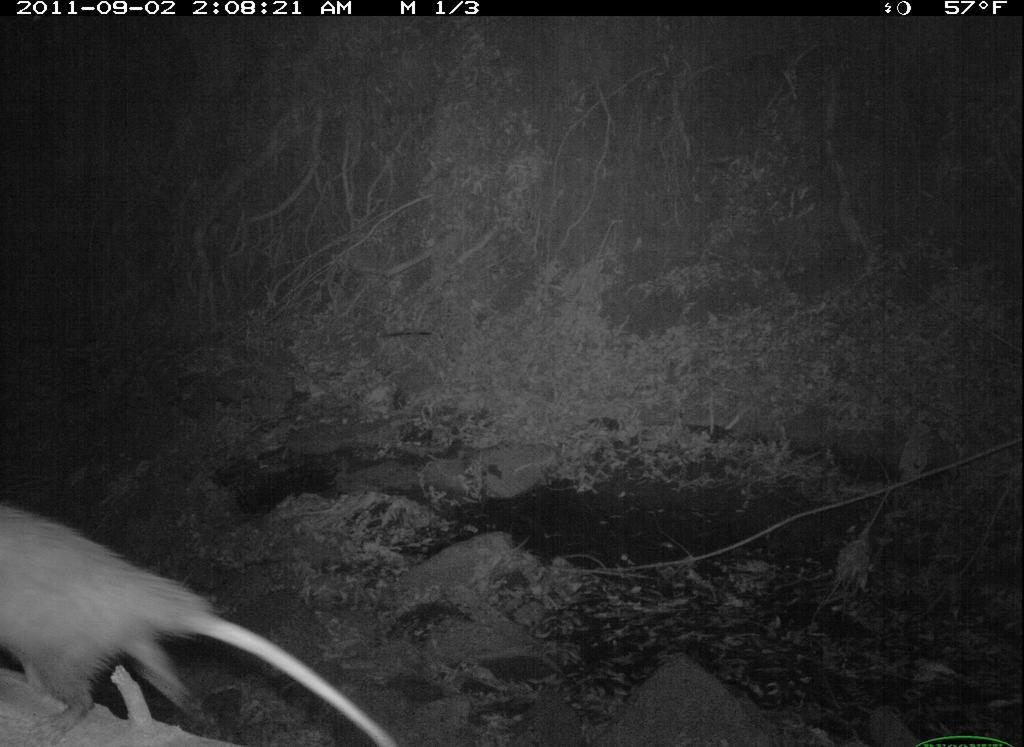opossum: (2, 489, 406, 747)
